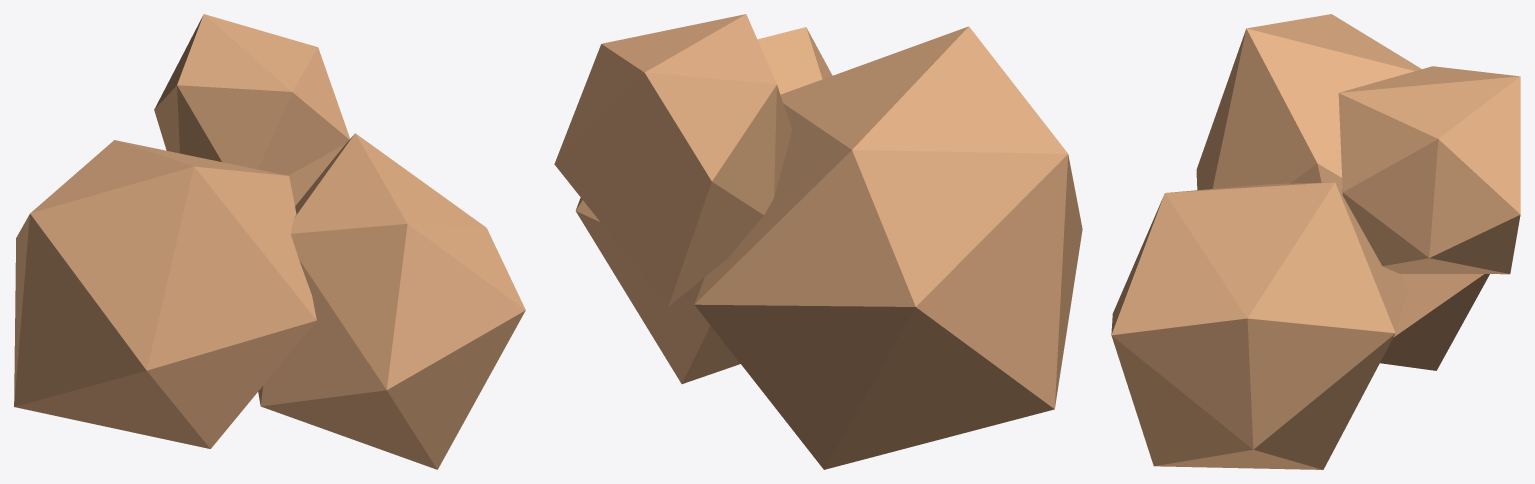
The model's file is rocks.glb.
3 views of the same model, side by side, from view 1: azimuth 30°, elevation 25°; view 2: azimuth 150°, elevation 25°; view 3: azimuth 270°, elevation 25° (orthographic). The views are drawn at different scales.
Parts seen in each view (by area): view 1: Pile; view 2: Pile; view 3: Pile.
Part boxes in pixels (x1,y1,x2,y2): Pile: [14, 14, 525, 469]; Pile: [554, 14, 1082, 469]; Pile: [1111, 14, 1520, 469].
Size of the model in its own units: 0.9109 by 0.7152 by 0.7338.
